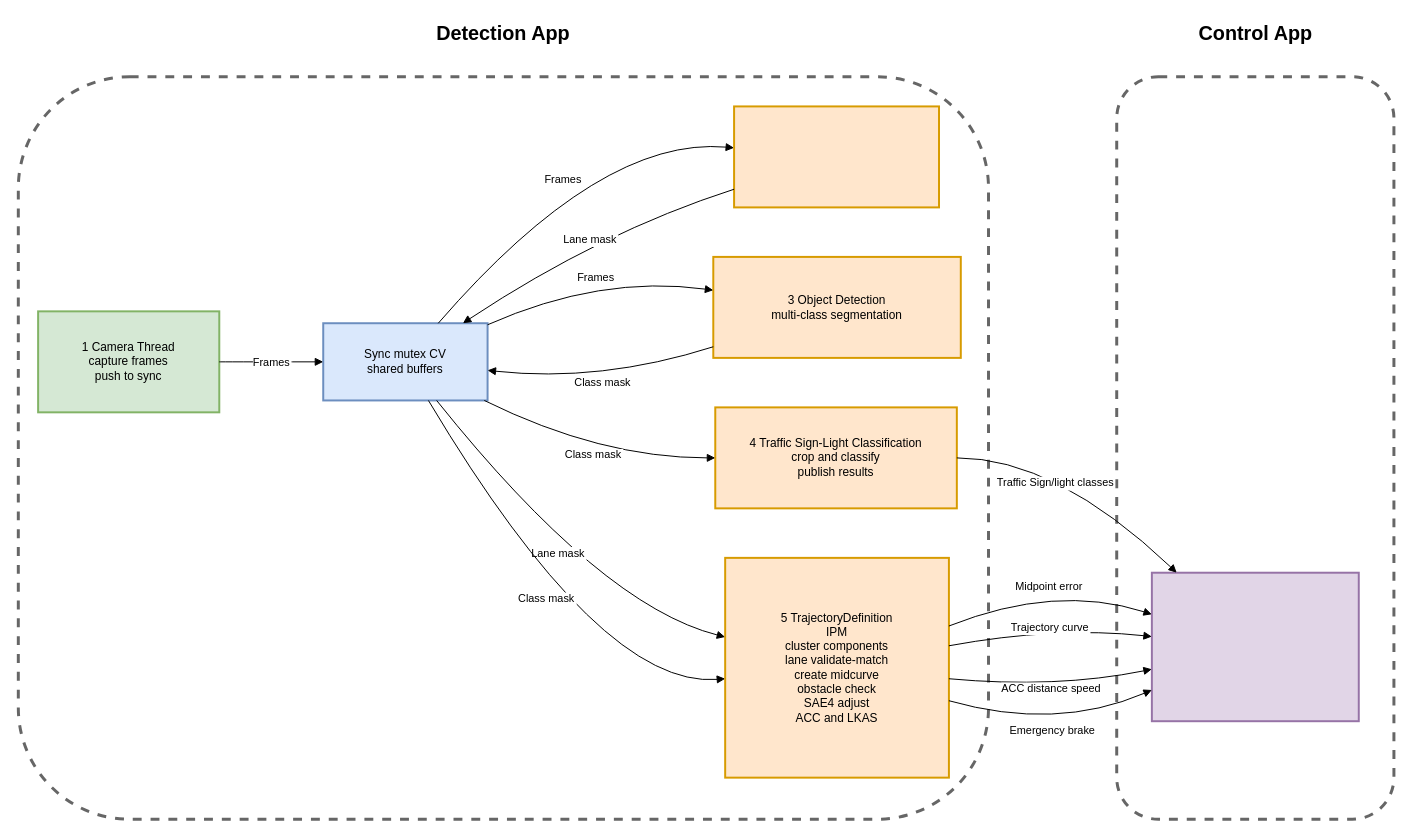
The diagram is 1413 pixels wide and 838 high, and some of its shapes have lost their labels. Here are the shapes that lost their labels. From the top down, the centre of each, then its label:
At point (836, 156): "2 Lane Detection Thread binary segmentation".
At point (1254, 646): "Control and Planning PID MPC LKAS ACC Emergency brake".
